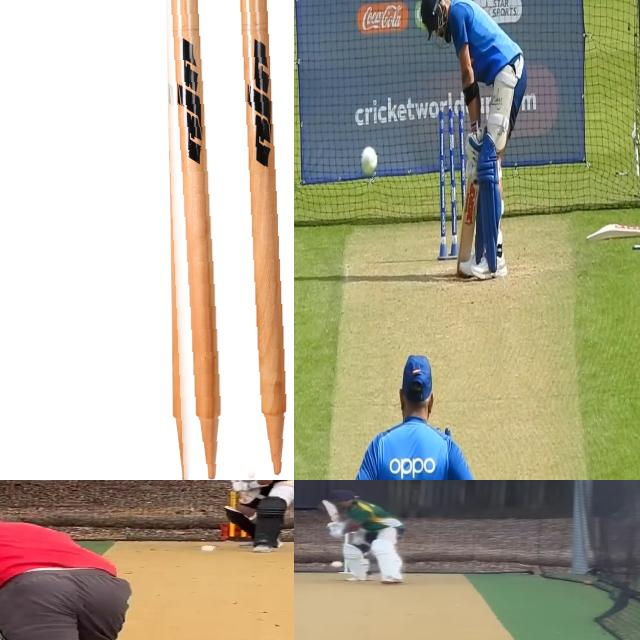Cricket ball: (199, 543, 217, 554), (329, 559, 345, 568)
Stumps: (158, 0, 294, 480), (360, 144, 380, 180)
